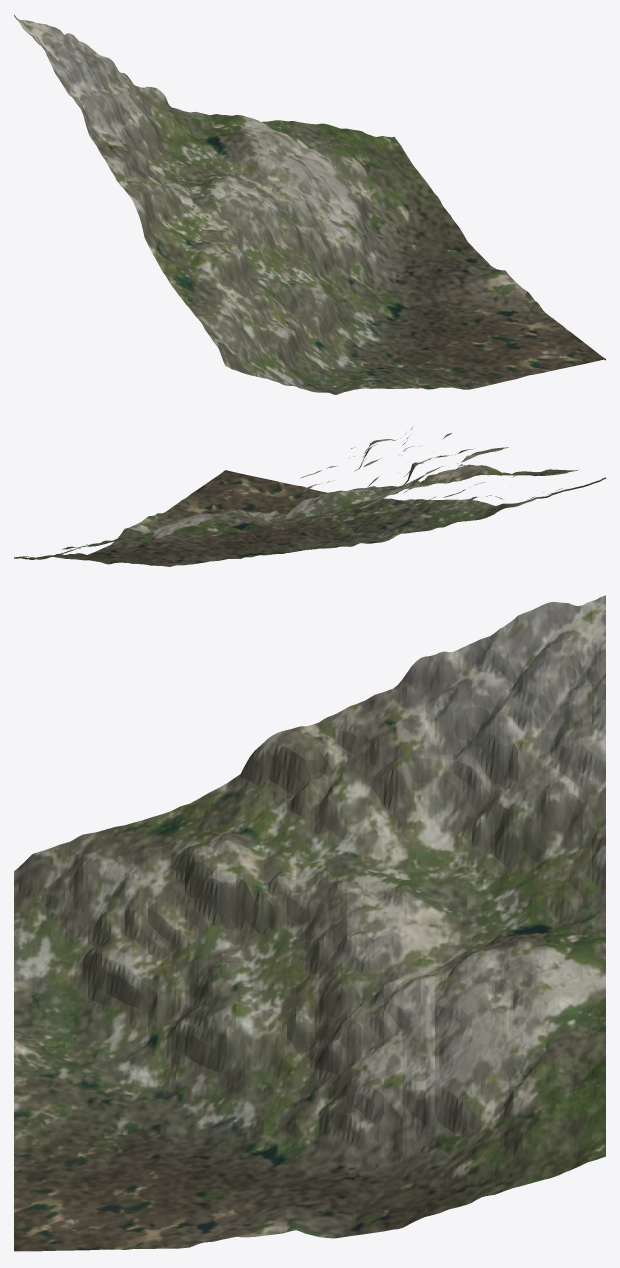
3 renders of one model, top to bottom at view 1: azimuth 30°, elevation 25°; view 2: azimuth 150°, elevation 25°; view 3: azimuth 270°, elevation 25°, orthographic. The views are drawn at different scales.
Bounding box in the file's own units: 250 × 179 × 241.
1 material, 1 textured.
